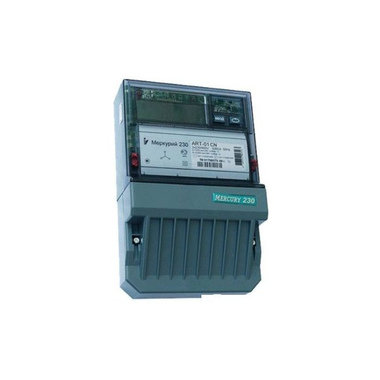counter: (122, 74, 260, 302)
counter_screen: (134, 95, 207, 126)
